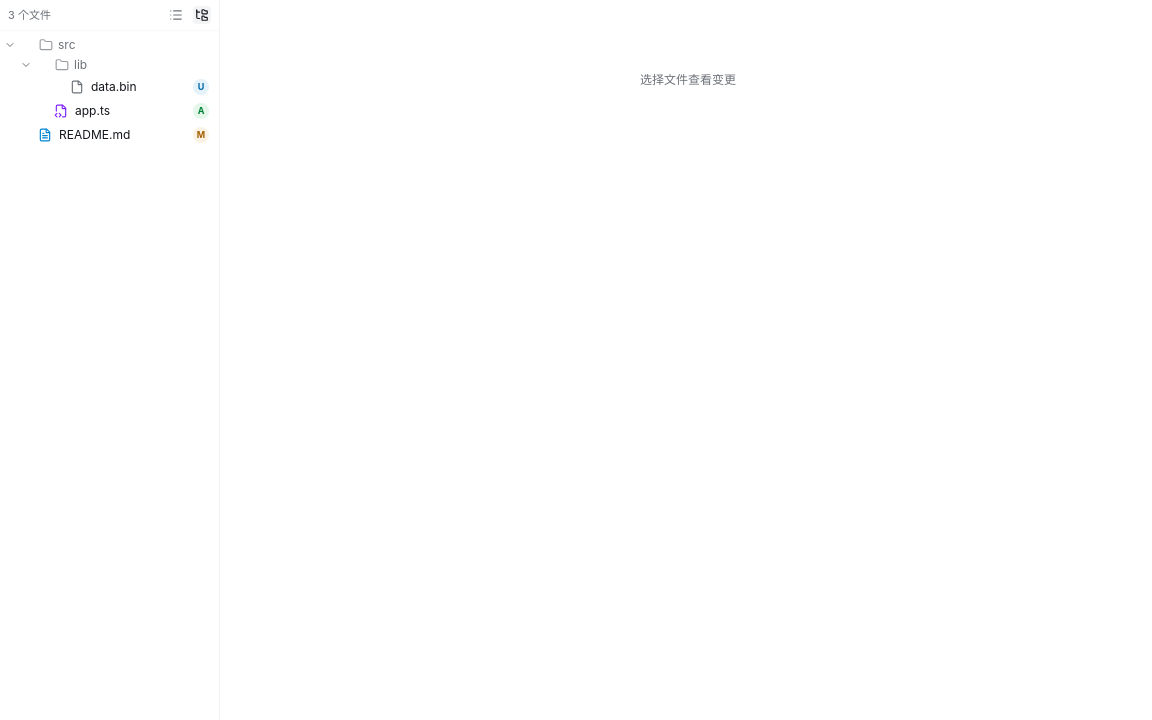
it: DiffPanel › loads a selected file on demand and deselects it on a second click
The width and height of the screenshot is (1152, 720).
Click the text "app.ts" at (92, 111), box 75,103 -> 110,119
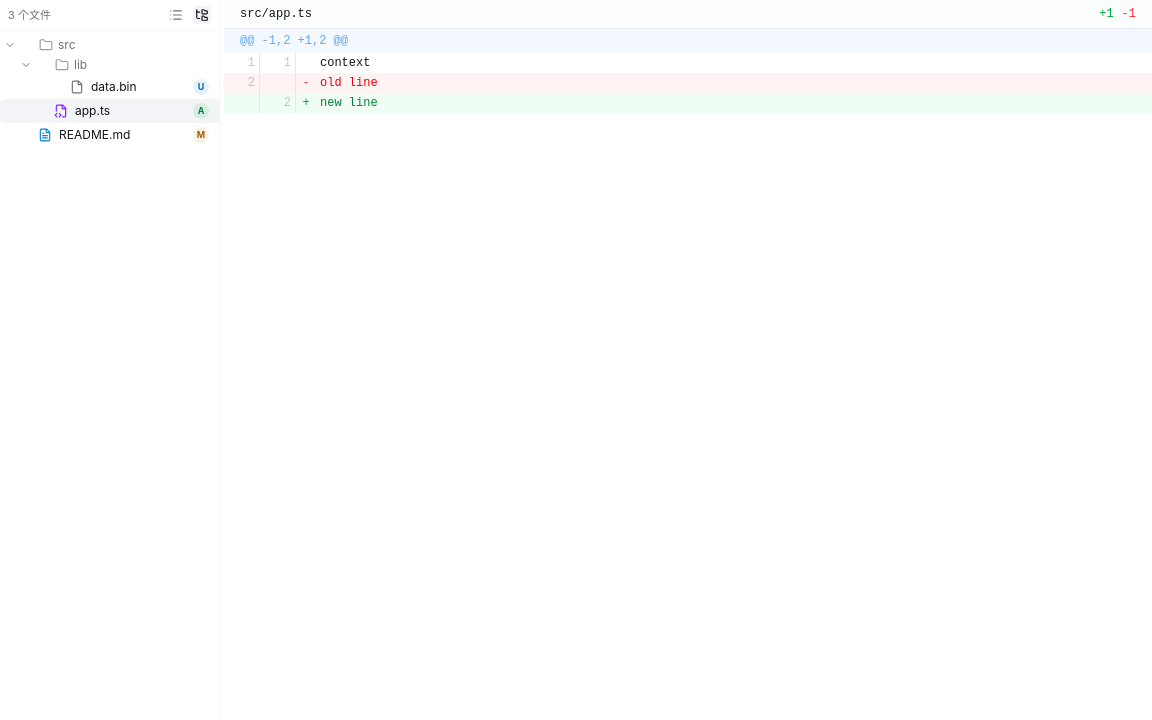
Expected: the text "new line" is shown, 320,96 -> 378,110
Click the text "app.ts" at (92, 111), box 75,103 -> 110,119
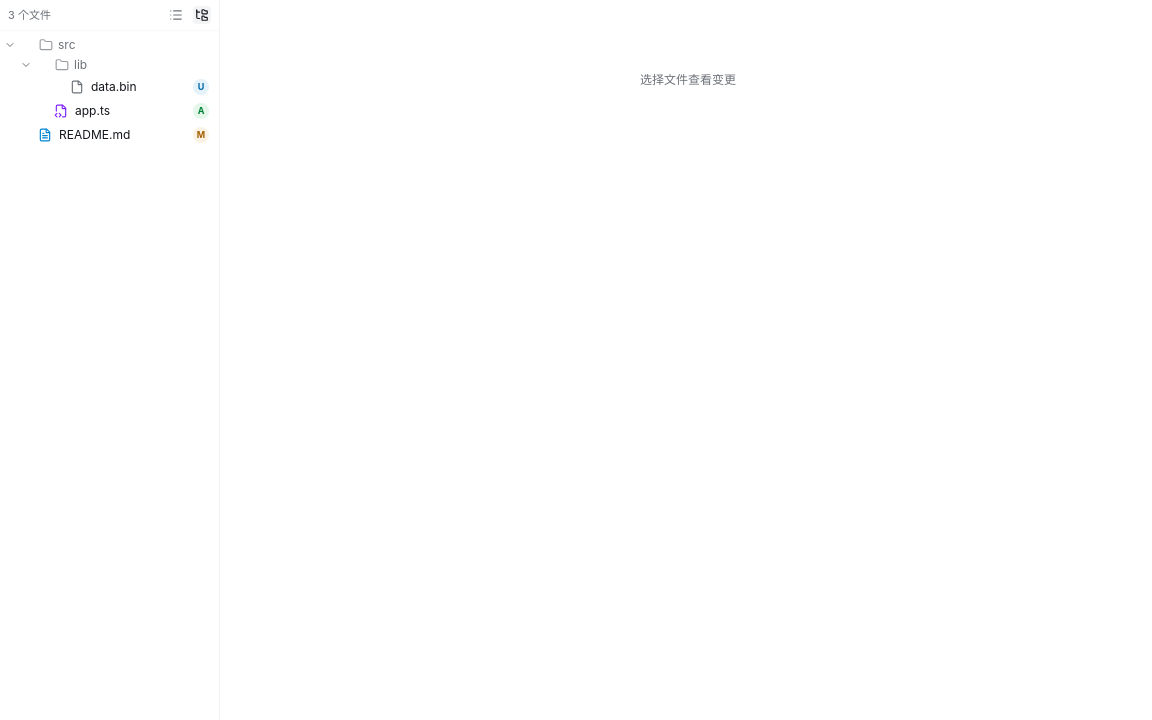
Expected: the text "选择文件查看变更" is shown, 640,72 -> 736,87
